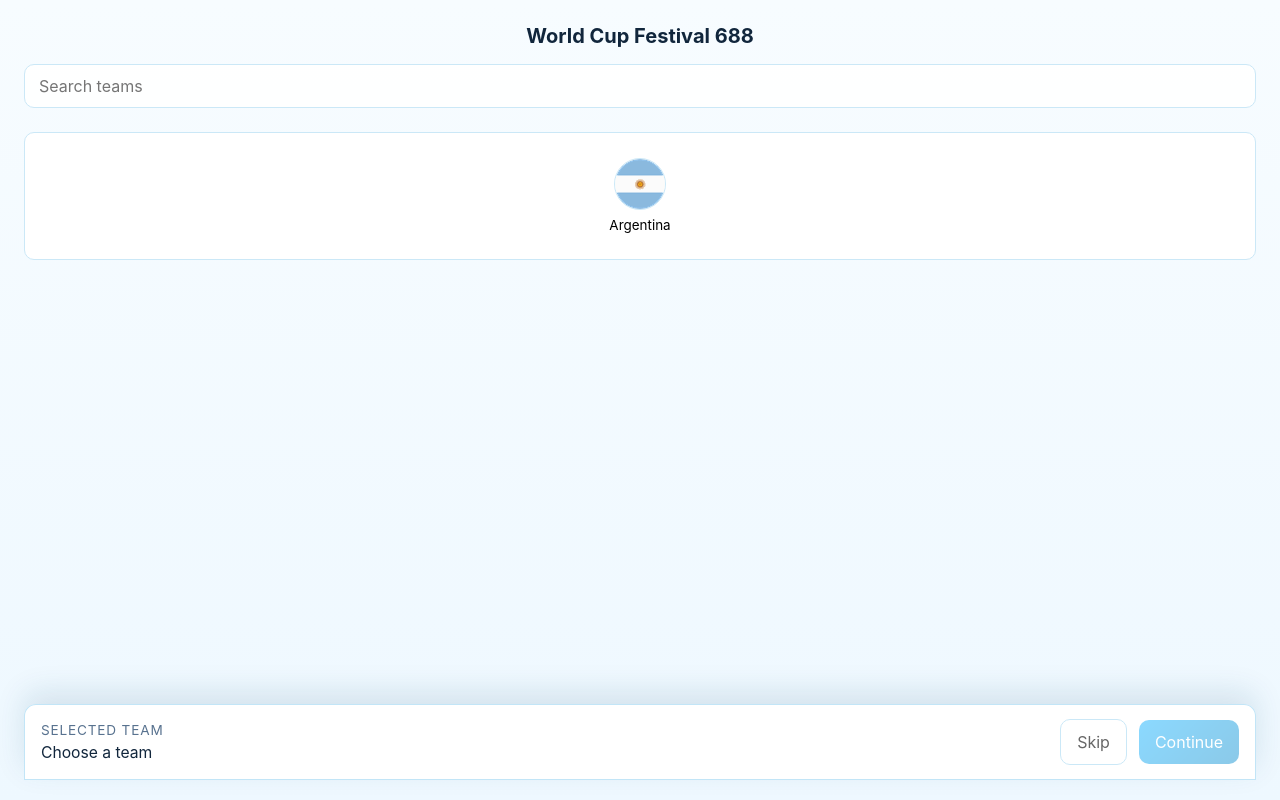
it: cancelling the display name dialog does not save the selection
Click the button "Argentina" at coordinates (640, 196), box [24, 132, 1256, 260]
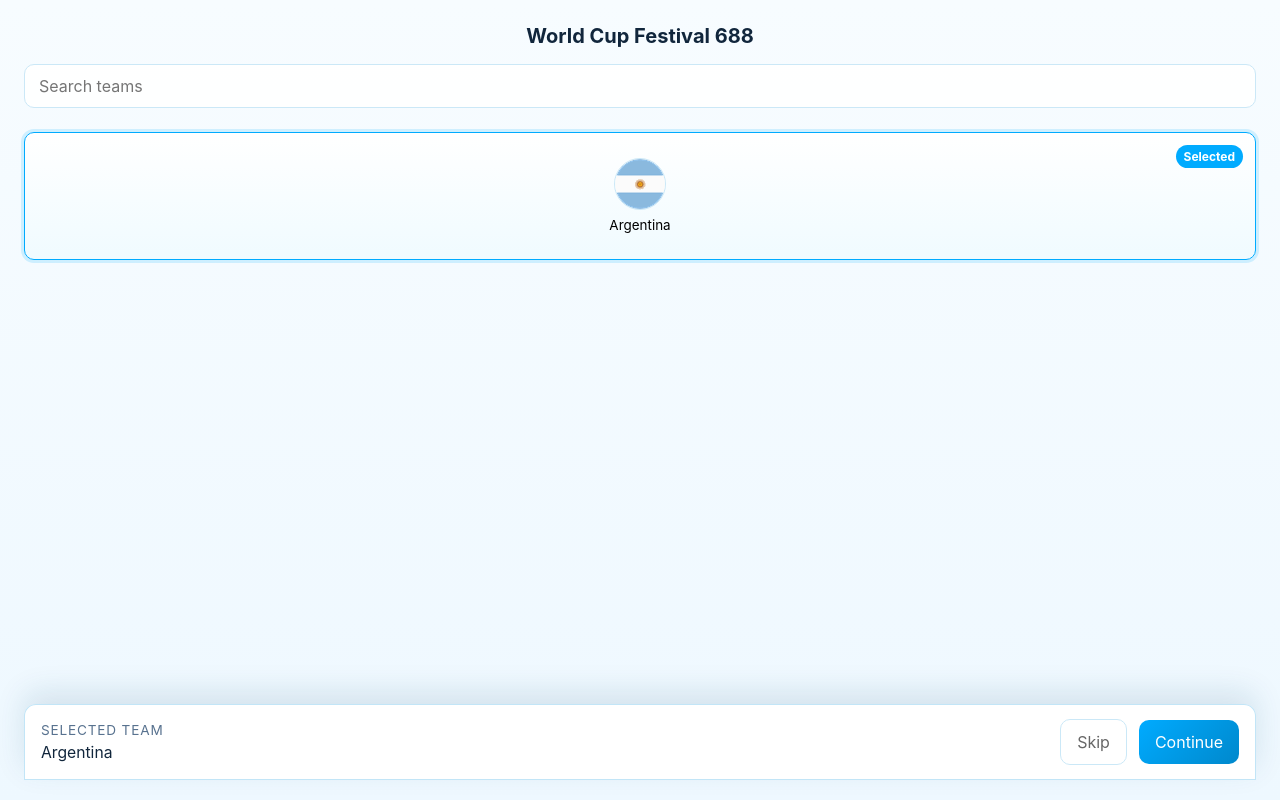
Click the button "Continue" at coordinates (1189, 742), box [1139, 720, 1239, 764]
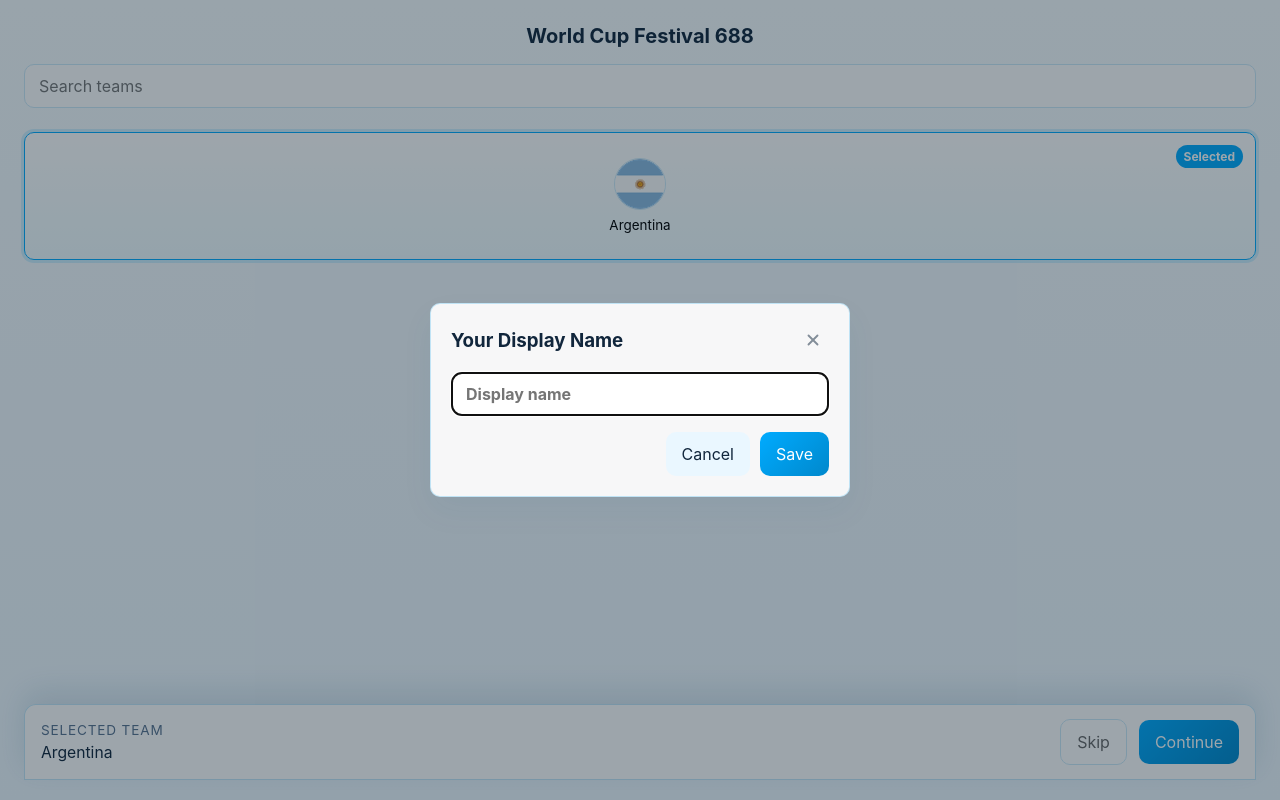
Click the button "Cancel" at coordinates (708, 454), box [666, 432, 750, 476]
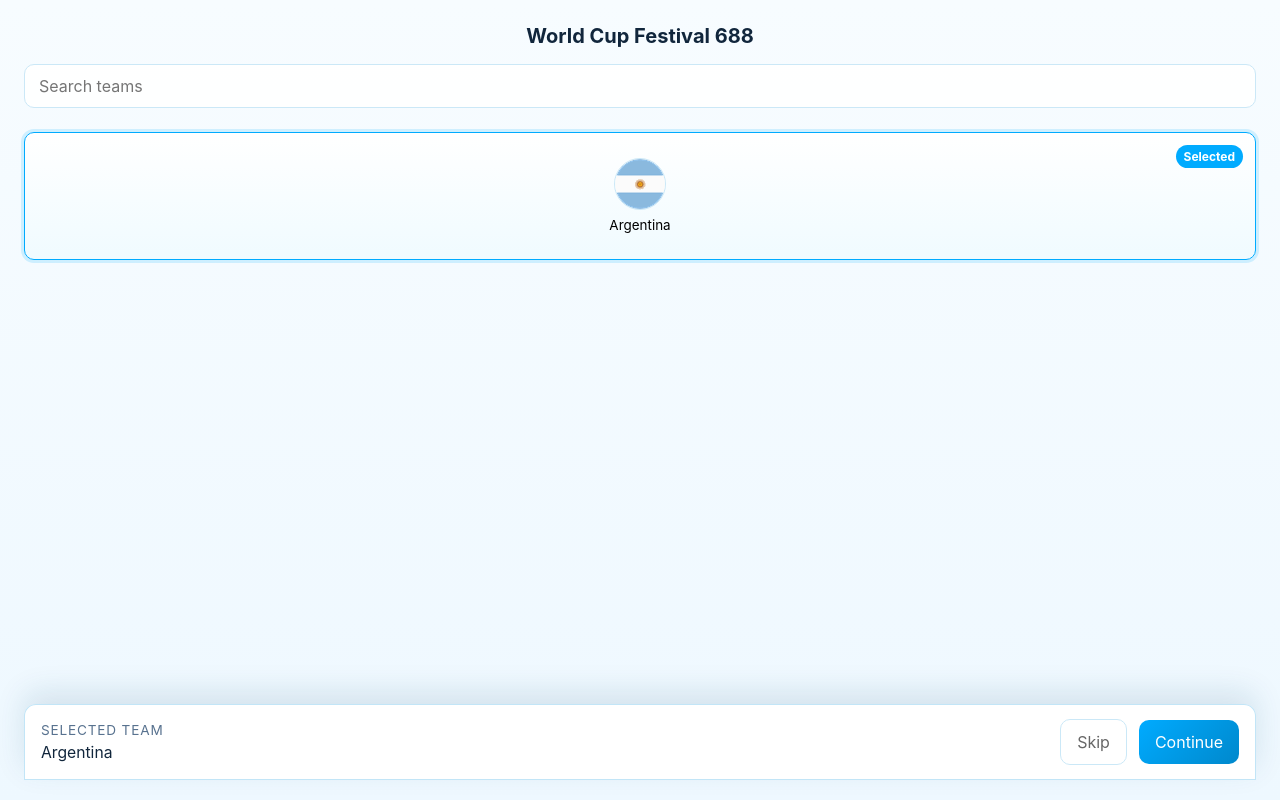
Result: the heading with placeholder "Display Name" is gone
